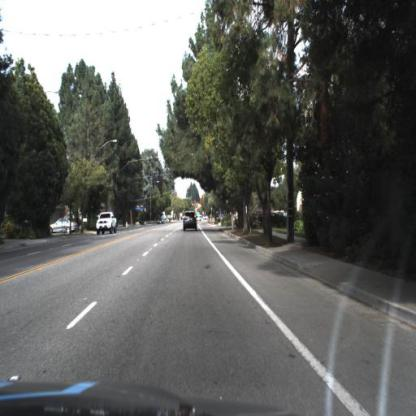car: (46, 214, 80, 238), (95, 211, 119, 238), (182, 208, 200, 232), (156, 214, 166, 228)
